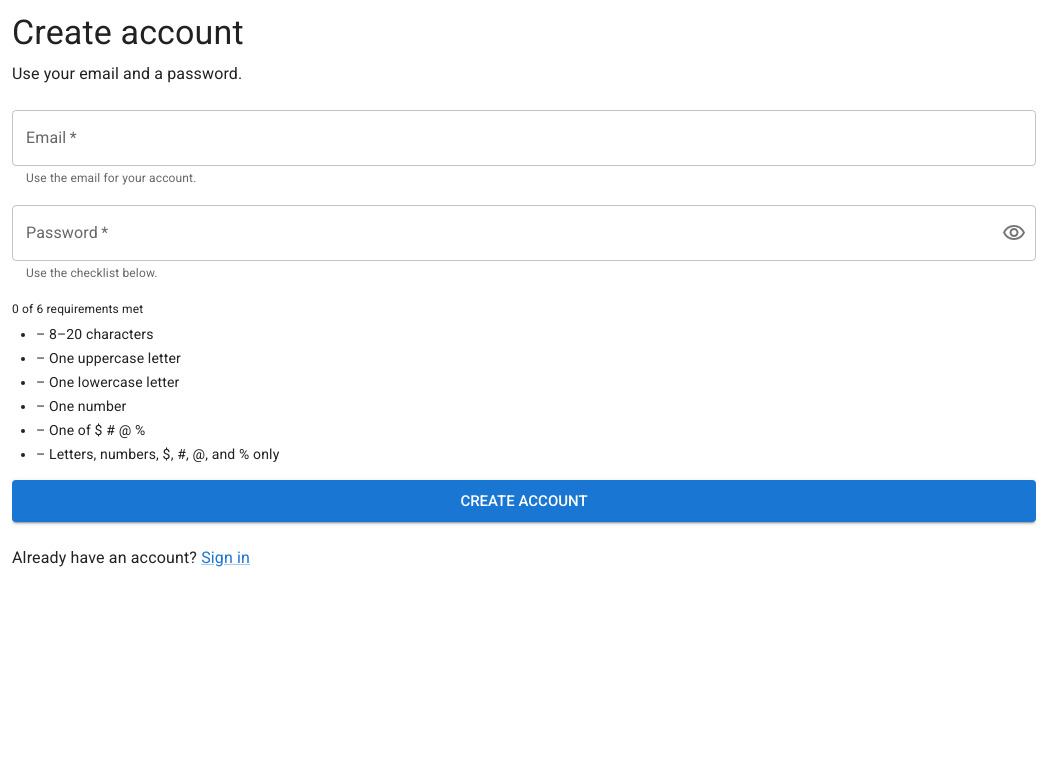
Test: AuthForm › shows accessible local errors and does not submit empty sign-up
This screenshot has width=1048, height=780.
Click the button "Create account".
click(524, 501)  # box [12, 480, 1036, 522]
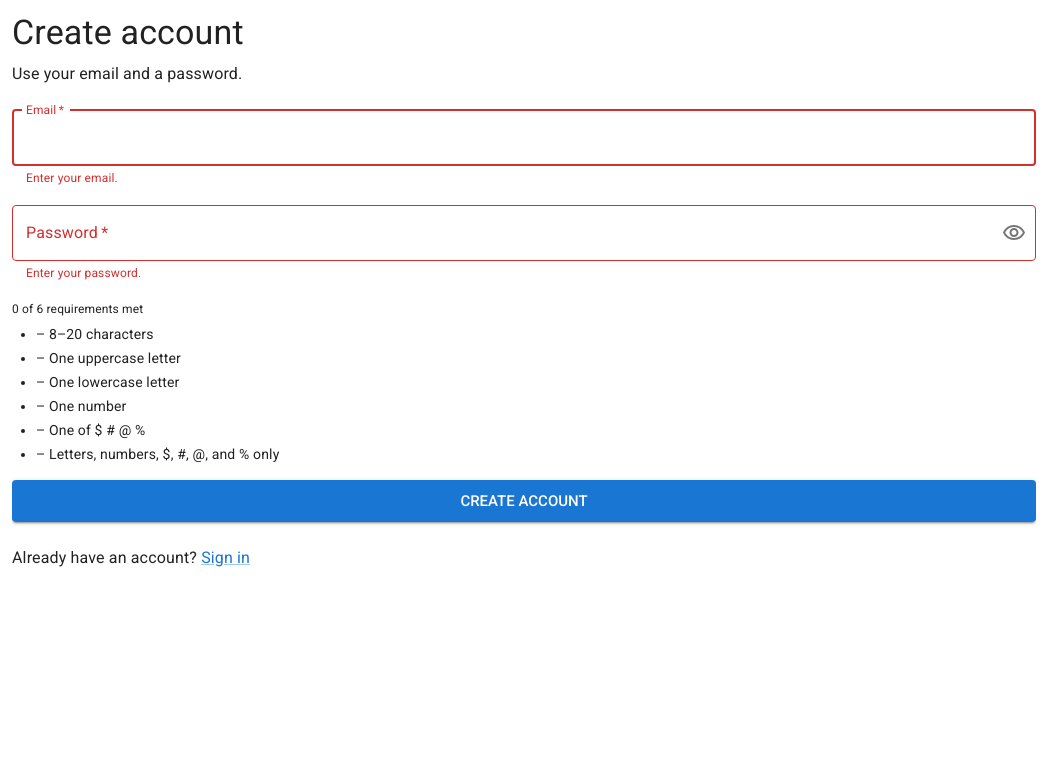
Check: the text "Enter your email." is shown, box [26, 171, 118, 185]
Check: the text "Enter your password." is shown, box [26, 266, 141, 280]
